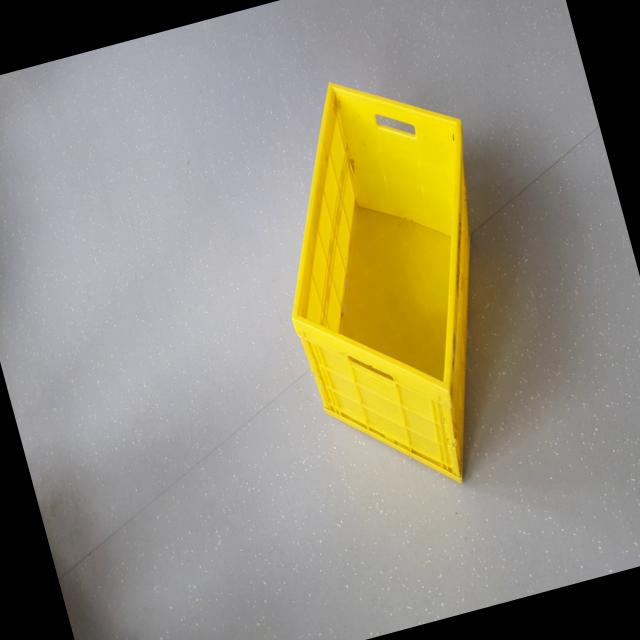box: (228, 42, 569, 519)
